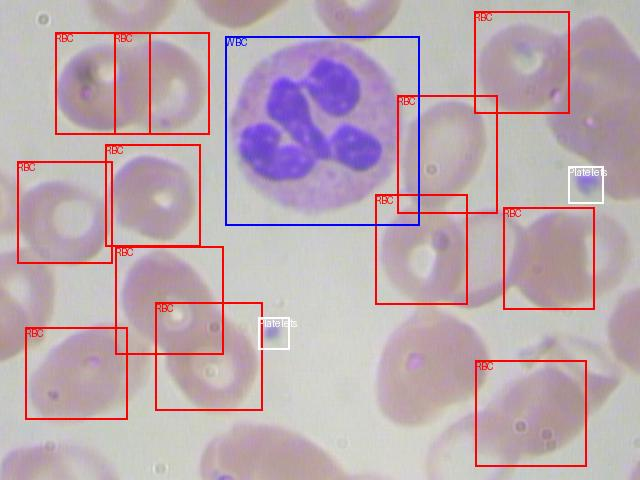Platelets: (568, 166, 603, 203), (258, 317, 289, 349)
RBC: (397, 95, 497, 213), (475, 360, 586, 466), (115, 246, 223, 354), (155, 302, 262, 410), (375, 194, 467, 304), (474, 11, 569, 113), (114, 32, 209, 134), (55, 32, 150, 134), (105, 144, 200, 246), (17, 161, 112, 263), (25, 327, 127, 419), (503, 207, 594, 309)
WBC: (225, 36, 419, 225)
